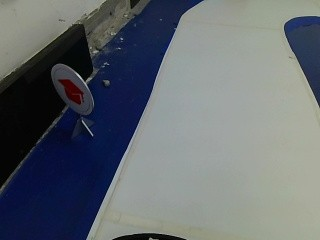school: (50, 61, 94, 115)
